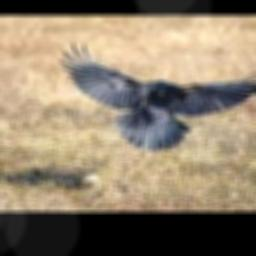Crow: (56, 42, 256, 151)
